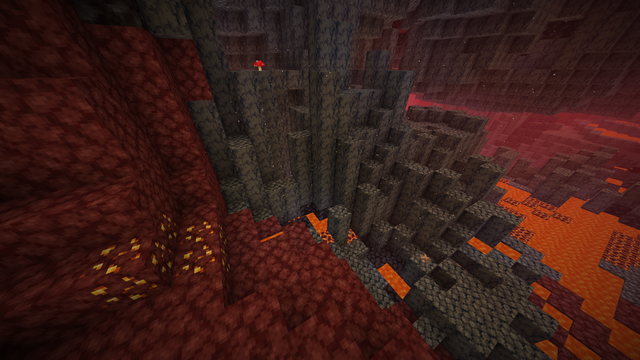nethergold: (85, 219, 228, 308)
